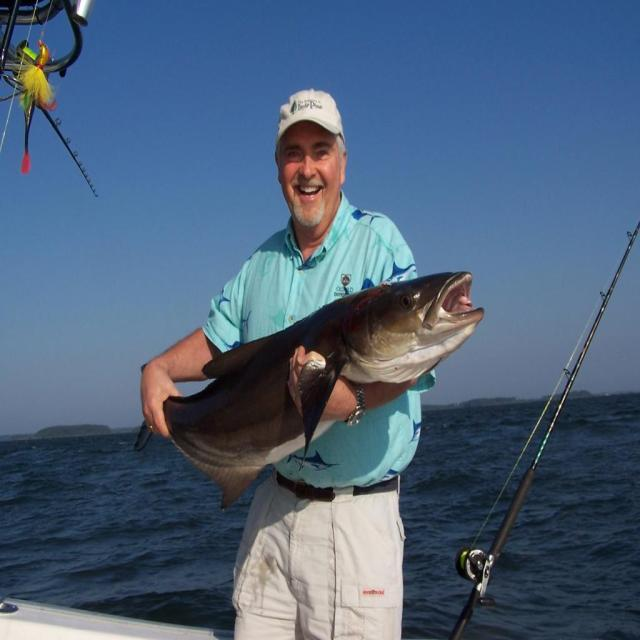Face: (278, 99, 361, 254)
